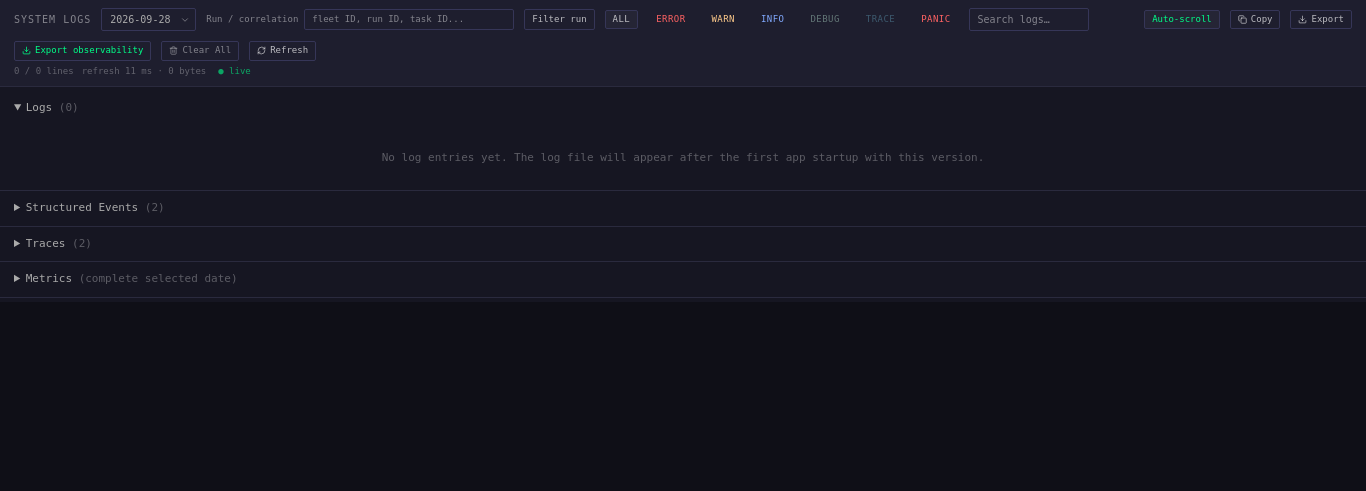
Test case: Logs tab › keeps repeated same-named spans as separate operations within one run
Click the heading "Traces (2)". click: (59, 243)
box: [26,236,92,250]
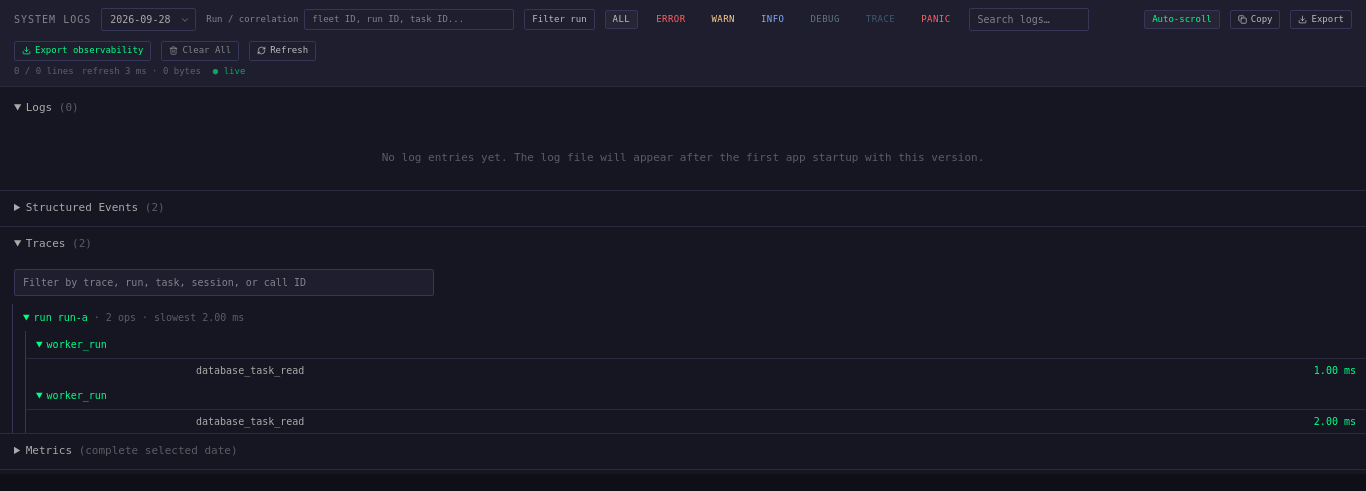
Expected: the text "worker_run" is shown 2 times, [47,339,107,350]; [47,390,107,401]
Expected: the text "worker_run" shows "1.00 ms", [1314,365,1356,376]
Expected: the text "worker_run" shows "2.00 ms", [1314,416,1356,427]
